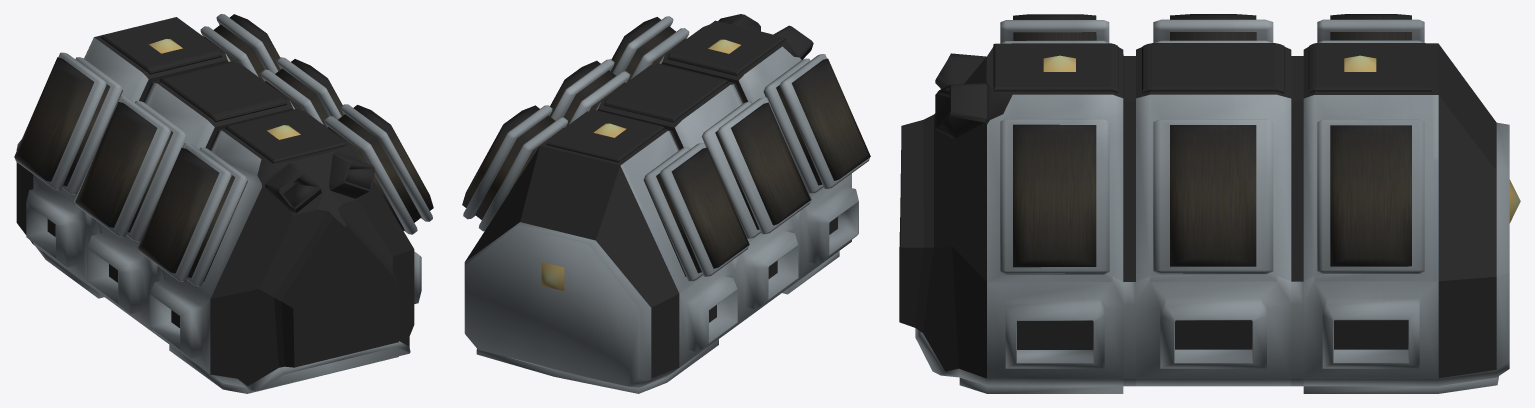
The model's file is engine1.obj.
The picture shows the model from 3 angles, left to right: view 1: azimuth 30°, elevation 25°; view 2: azimuth 150°, elevation 25°; view 3: azimuth 270°, elevation 25°; orthographic projection. The views are drawn at different scales.
Visible parts, largest first — view 1: Cylinder.001_Cylinder.001; view 2: Cylinder.001_Cylinder.001; view 3: Cylinder.001_Cylinder.001.
Boxes of the visible parts, x1,y1,x2,y2 form: Cylinder.001_Cylinder.001: (14,14,433,393); Cylinder.001_Cylinder.001: (462,14,870,393); Cylinder.001_Cylinder.001: (899,14,1520,393).
Bounding box in the file's own units: 1.31 × 1.07 × 2.07.
